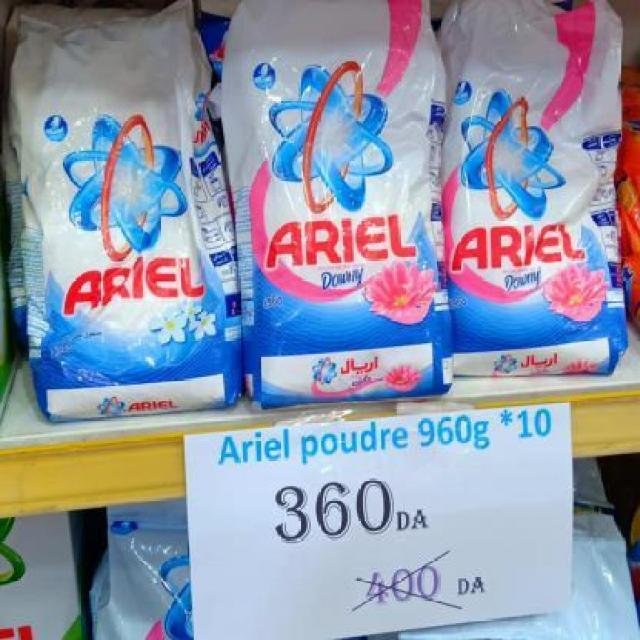Detergent: (5, 9, 237, 405), (216, 7, 454, 393), (432, 0, 615, 375)
